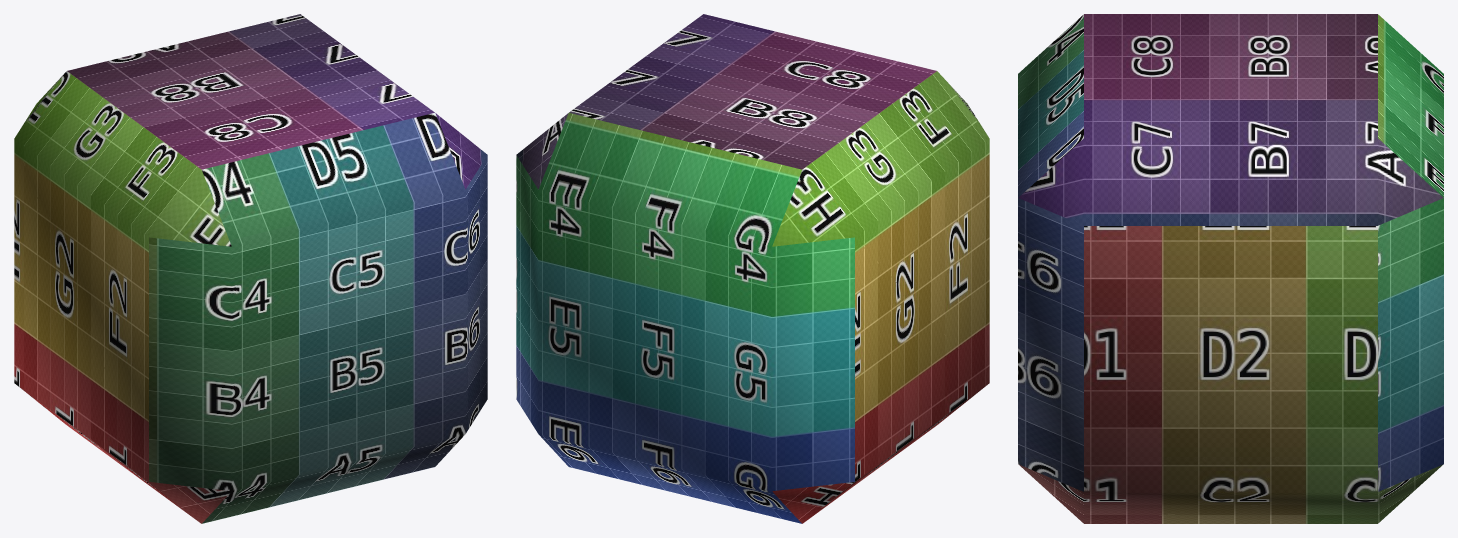
The model's file is cube_smooth.obj.
3 renders of one model, left to right at view 1: azimuth 30°, elevation 25°; view 2: azimuth 150°, elevation 25°; view 3: azimuth 270°, elevation 25°, orthographic. The views are drawn at different scales.
Parts seen in each view (by area): view 1: Cube_Cube.001; view 2: Cube_Cube.001; view 3: Cube_Cube.001.
Part boxes in pixels (x1,y1,x2,y2): Cube_Cube.001: (14,14,487,523); Cube_Cube.001: (516,14,989,523); Cube_Cube.001: (1018,14,1443,523).
Size of the model in its own units: 2 by 2 by 2.
1 material, 1 textured.
